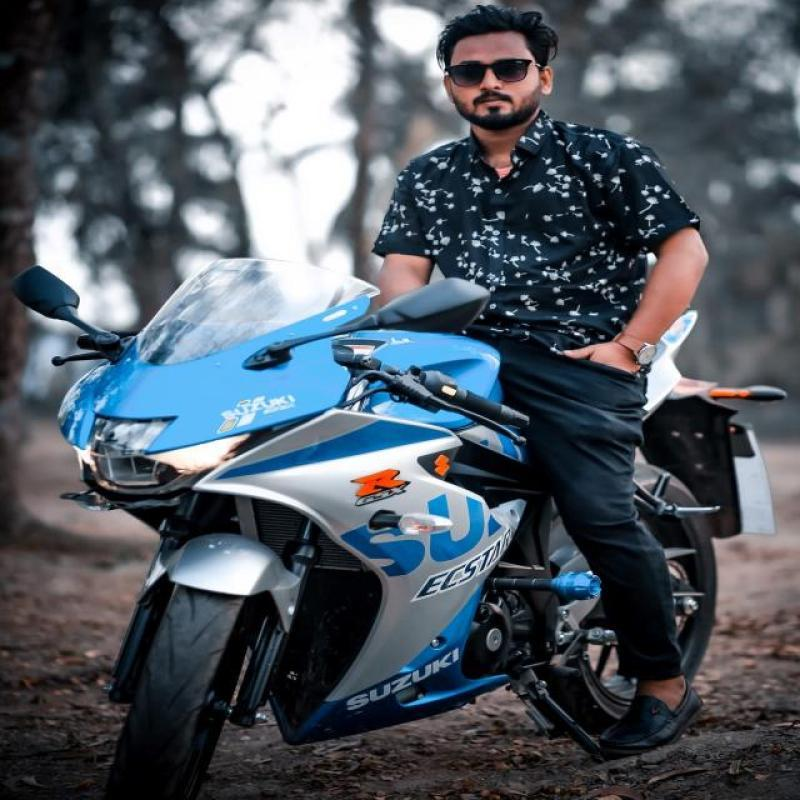nohelmet: (440, 7, 576, 138)
